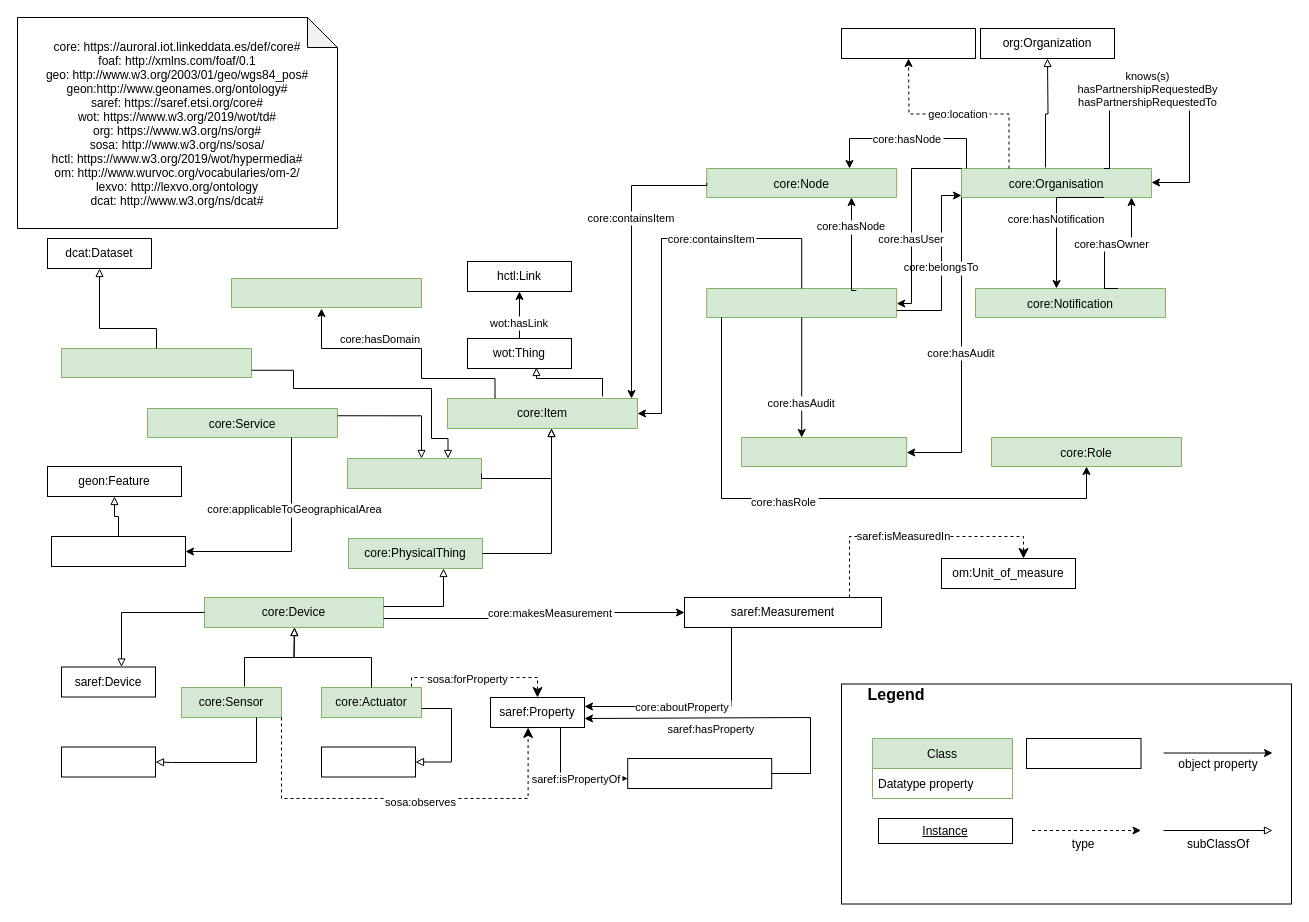
This 1309x922 diagram has some shape labels left out. Each missing label, with the centre of its shape:
core:Audit: pixel 823 451
core:Dataset: pixel 156 363
core:Domain: pixel 326 293
core:Place: pixel 118 551
core:User: pixel 801 303
core:VirtualThing: pixel 414 473
geo:SpatialThing: pixel 908 43
Reused class: pixel 1083 753
saref:FeatureOfInterest: pixel 699 773
sosa:Actuator: pixel 368 761
sosa:Sensor: pixel 108 761
